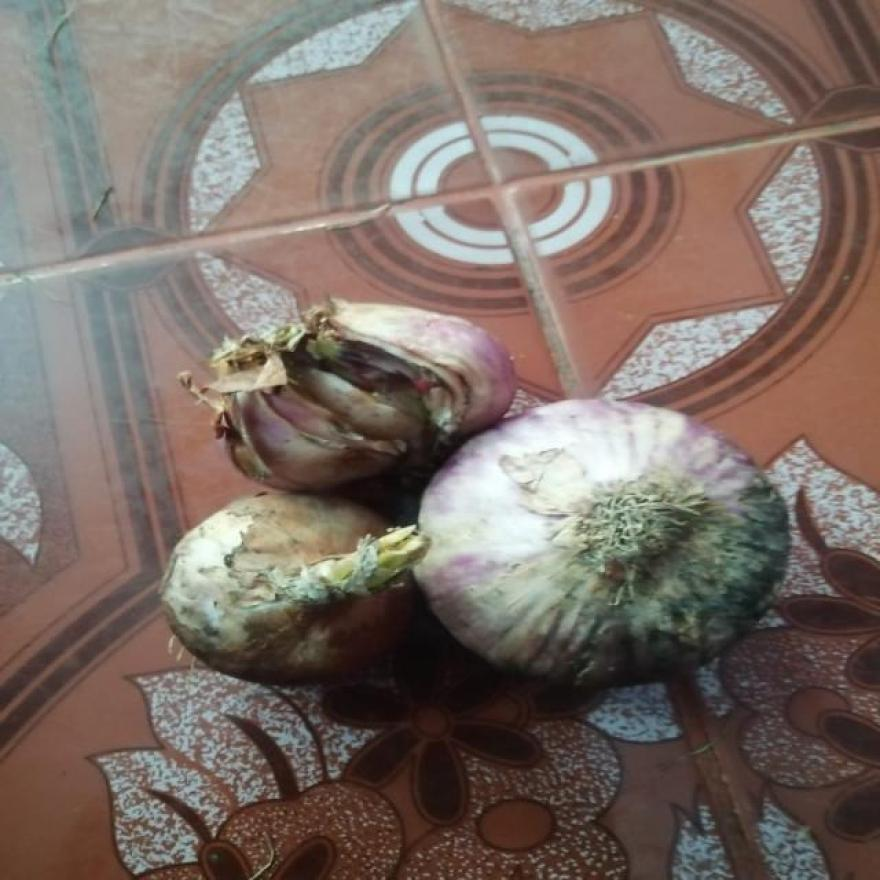Rotten: (262, 342, 430, 443), (652, 501, 774, 637)
Sprouted: (323, 534, 425, 589)
